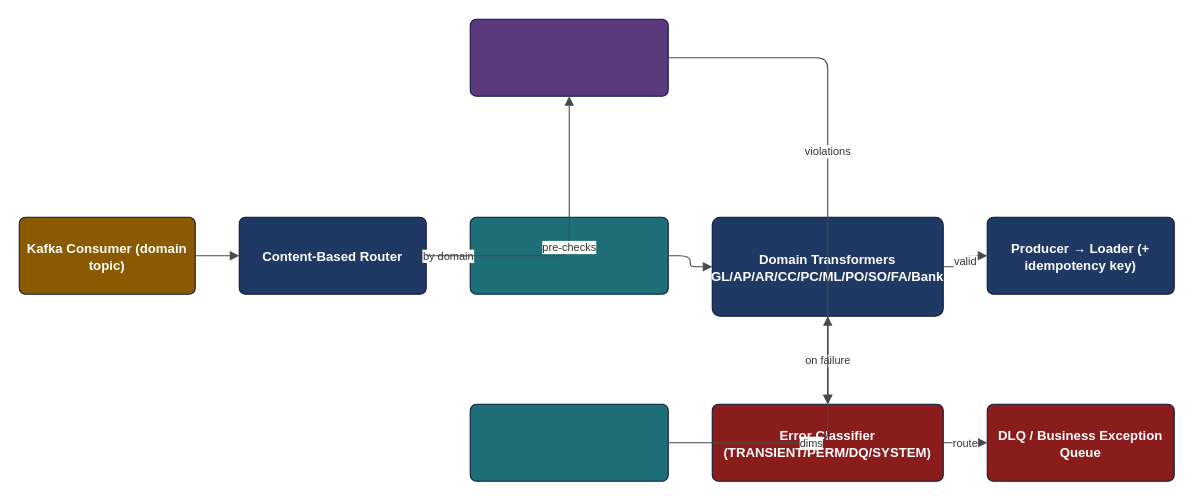
Image size: 1194x501. Some labels were removed from this diagram. Each missing label, with the centre of its shape:
"Currency Converter (TCURR point-in-time)" belongs at point 568,255.
"Hierarchy Flattener (SETNODE/LEAF → L1–L7)" belongs at point 568,442.
"Validation Engine (27 DQ rules)" belongs at point 568,57.
